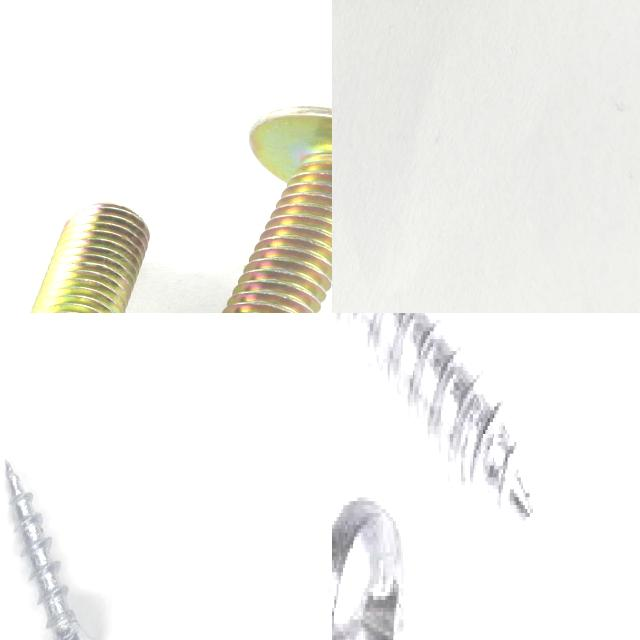Screw: (332, 313, 534, 525), (223, 105, 332, 313), (21, 193, 161, 313), (6, 459, 97, 640), (332, 497, 410, 640)
